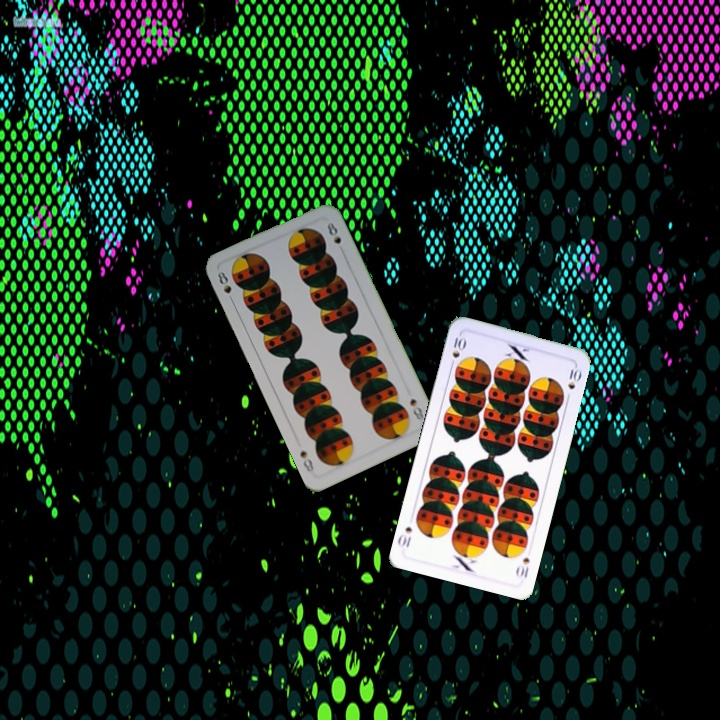S10: (446, 333, 469, 371), (512, 554, 532, 581)
S8: (213, 267, 237, 306), (406, 394, 426, 422)
